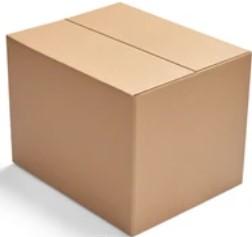stock: (7, 3, 251, 237)
